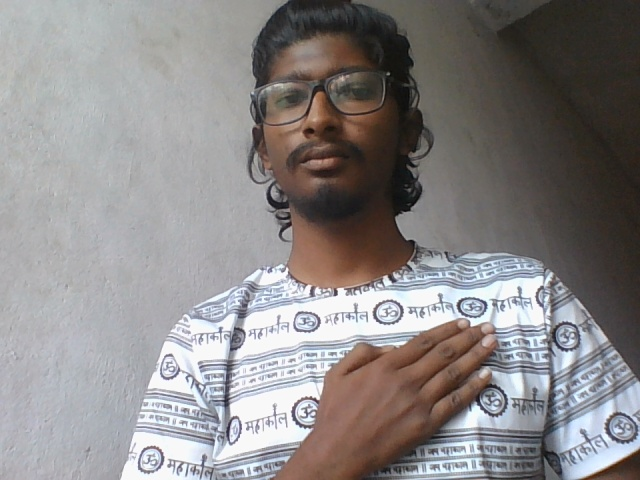Pay: (309, 317, 504, 455)
